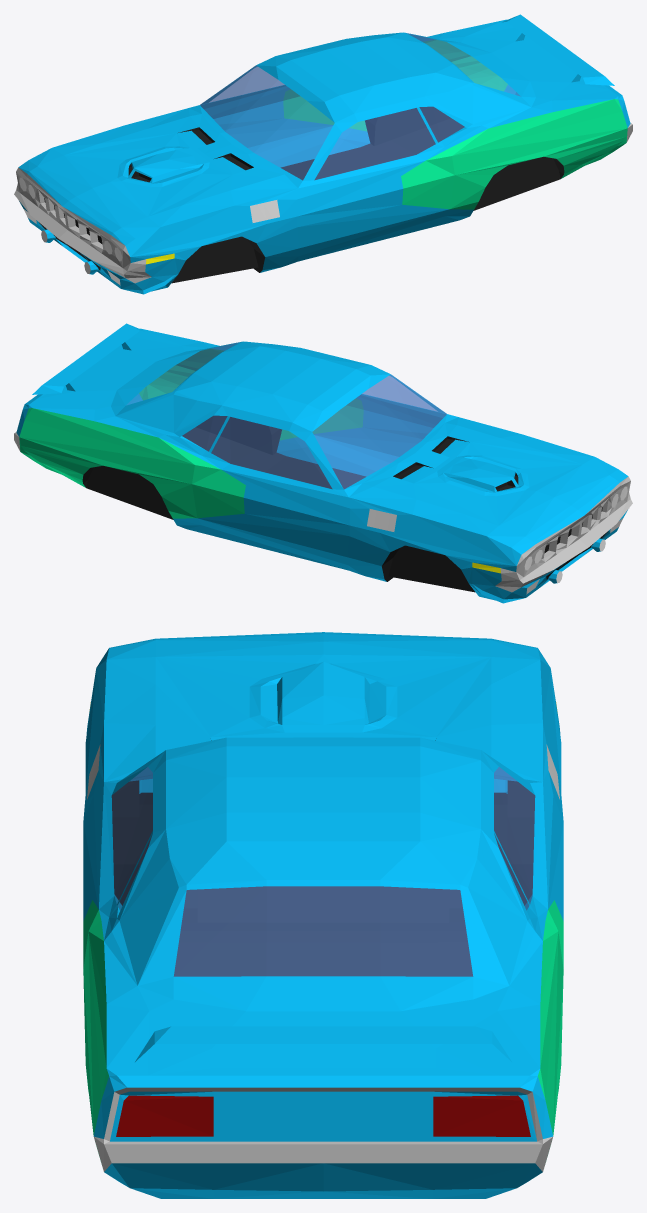
Rendered from Barricuda.fbx.
3 views of the same model, one above another, from view 1: azimuth 30°, elevation 25°; view 2: azimuth 150°, elevation 25°; view 3: azimuth 270°, elevation 25° (orthographic). The views are drawn at different scales.
Parts seen in each view (by area): view 1: _(Loose Entity); view 2: _(Loose Entity); view 3: _(Loose Entity).
Part boxes in pixels (left/top/right/bottom): _(Loose Entity): left=14, top=14, right=632, bottom=294; _(Loose Entity): left=14, top=323, right=632, bottom=603; _(Loose Entity): left=83, top=632, right=563, bottom=1198.
Size of the model in its own units: 467 by 119 by 186.
